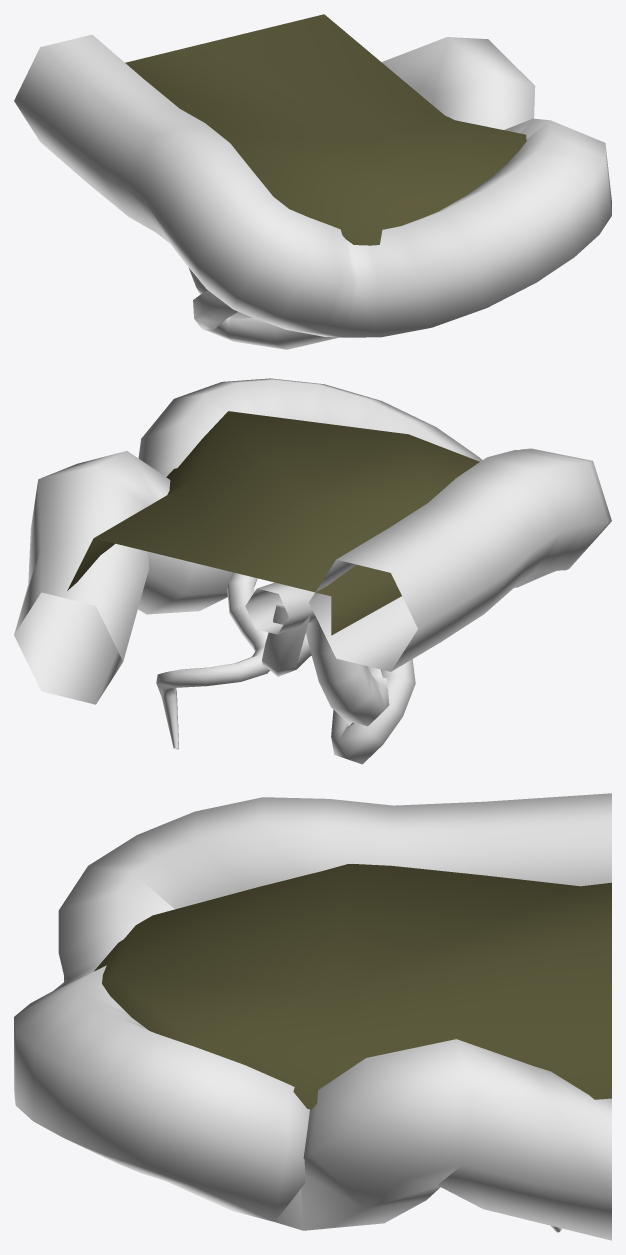
The model's file is Bcap.fbx.
3 views of the same model, one above another, from view 1: azimuth 30°, elevation 25°; view 2: azimuth 150°, elevation 25°; view 3: azimuth 270°, elevation 25° (orthographic). The views are drawn at different scales.
Parts seen in each view (by area): view 1: NurbsPath.004, DummyPlane.008; view 2: NurbsPath.004, DummyPlane.008; view 3: NurbsPath.004, DummyPlane.008.
Part boxes in pixels (bbox=[...]): NurbsPath.004: bbox=[14, 34, 611, 349]; DummyPlane.008: bbox=[125, 14, 526, 245]; NurbsPath.004: bbox=[14, 378, 611, 764]; DummyPlane.008: bbox=[67, 411, 479, 635]; NurbsPath.004: bbox=[14, 793, 611, 1240]; DummyPlane.008: bbox=[94, 864, 611, 1109].
Bounding box in the file's own units: 116 × 67.87 × 111.
